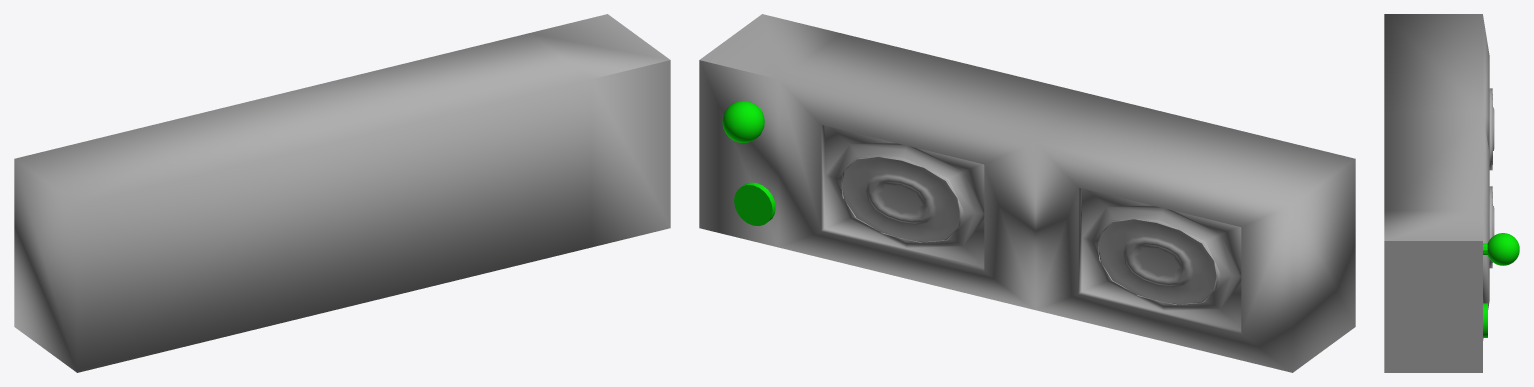
File: speakers_v03.fbx
The picture shows the model from 3 angles, left to right: view 1: azimuth 30°, elevation 25°; view 2: azimuth 150°, elevation 25°; view 3: azimuth 270°, elevation 25°; orthographic projection. The views are drawn at different scales.
Parts seen in each view (by area): view 1: speaker; view 2: speaker, knob, button; view 3: speaker, knob, button.
Boxes of the visible parts, x1,y1,x2,y2 form: speaker: [14, 14, 670, 372]; speaker: [699, 14, 1355, 372]; knob: [722, 101, 764, 142]; button: [734, 182, 775, 225]; speaker: [1384, 14, 1494, 372]; knob: [1483, 233, 1519, 265]; button: [1483, 303, 1487, 337].
Bounding box in the file's own units: 9.23 × 2.5 × 2.33.
